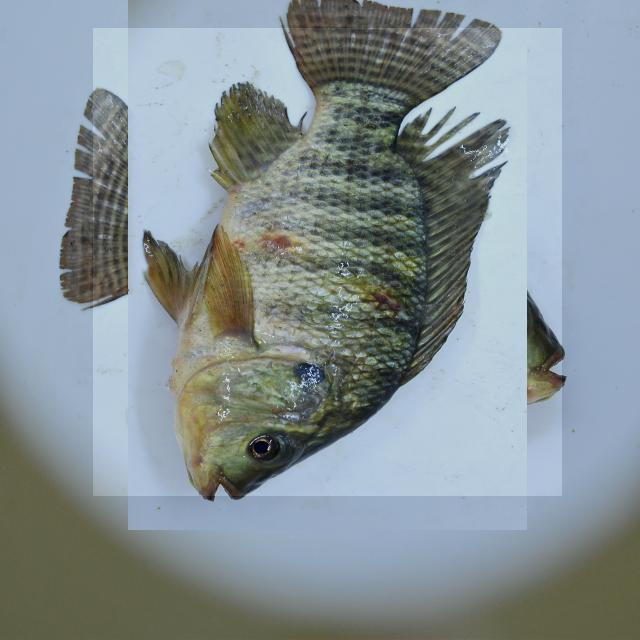Columnaris Disease: (93, 28, 562, 496)
